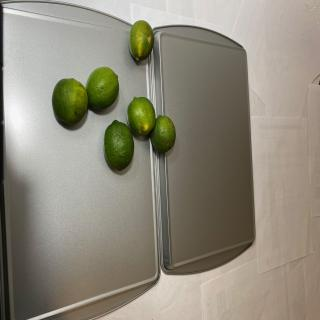Lemon: (52, 78, 88, 124), (104, 119, 134, 171), (85, 66, 119, 110), (126, 96, 156, 136), (129, 20, 154, 61), (150, 114, 176, 153)
